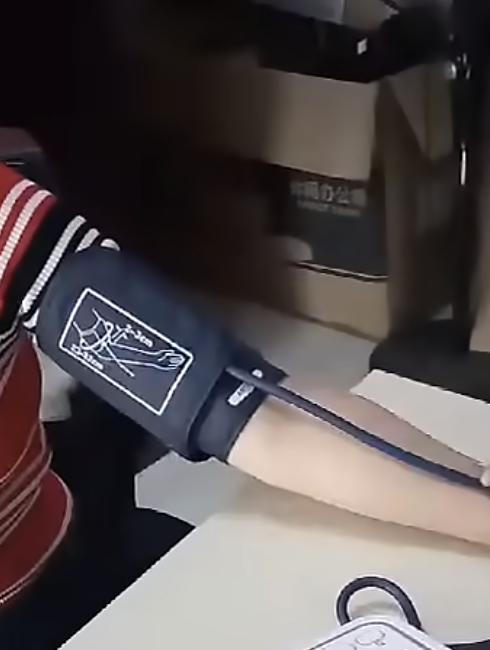cuff: (39, 244, 265, 459)
